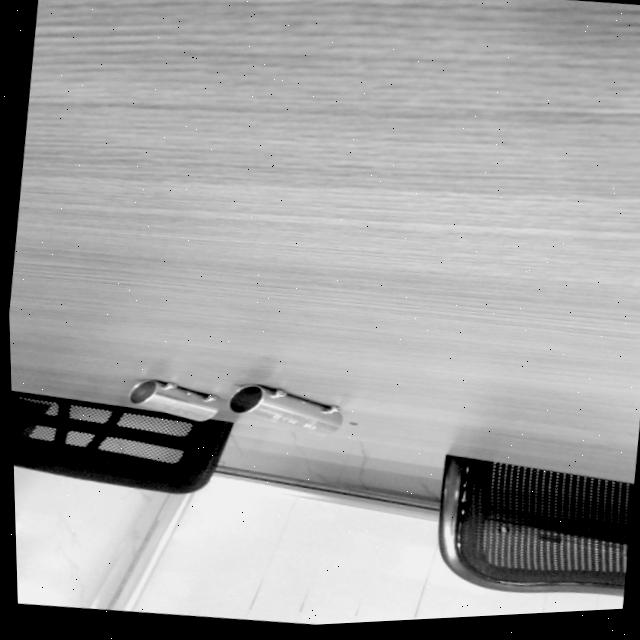Co_Lon: (226, 377, 345, 440)
Co_Nho: (127, 374, 221, 423)
